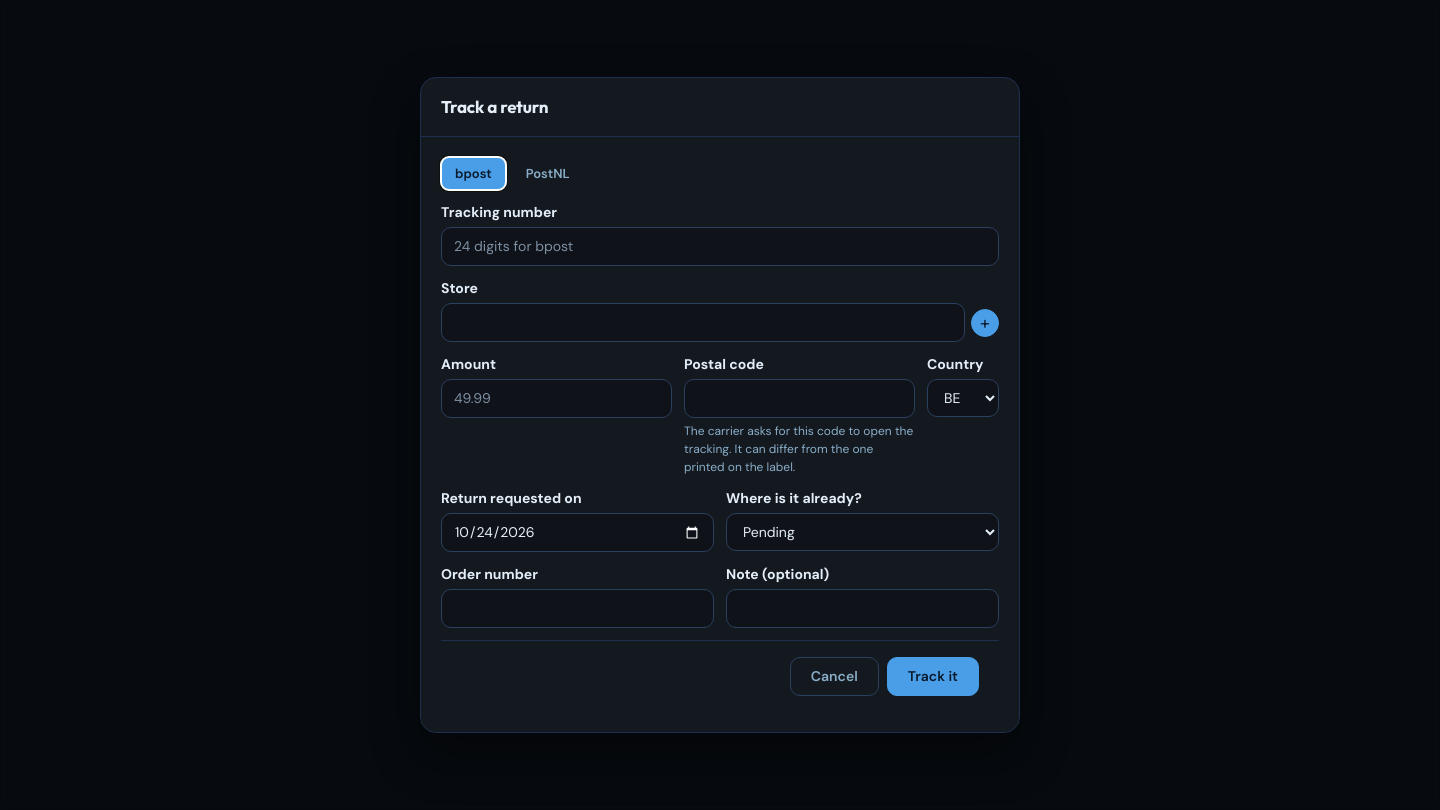
Test: what it refuses › names every missing field at once
Click the button "Track it" at (933, 676), box top-left (887, 657), bottom-right (979, 696)
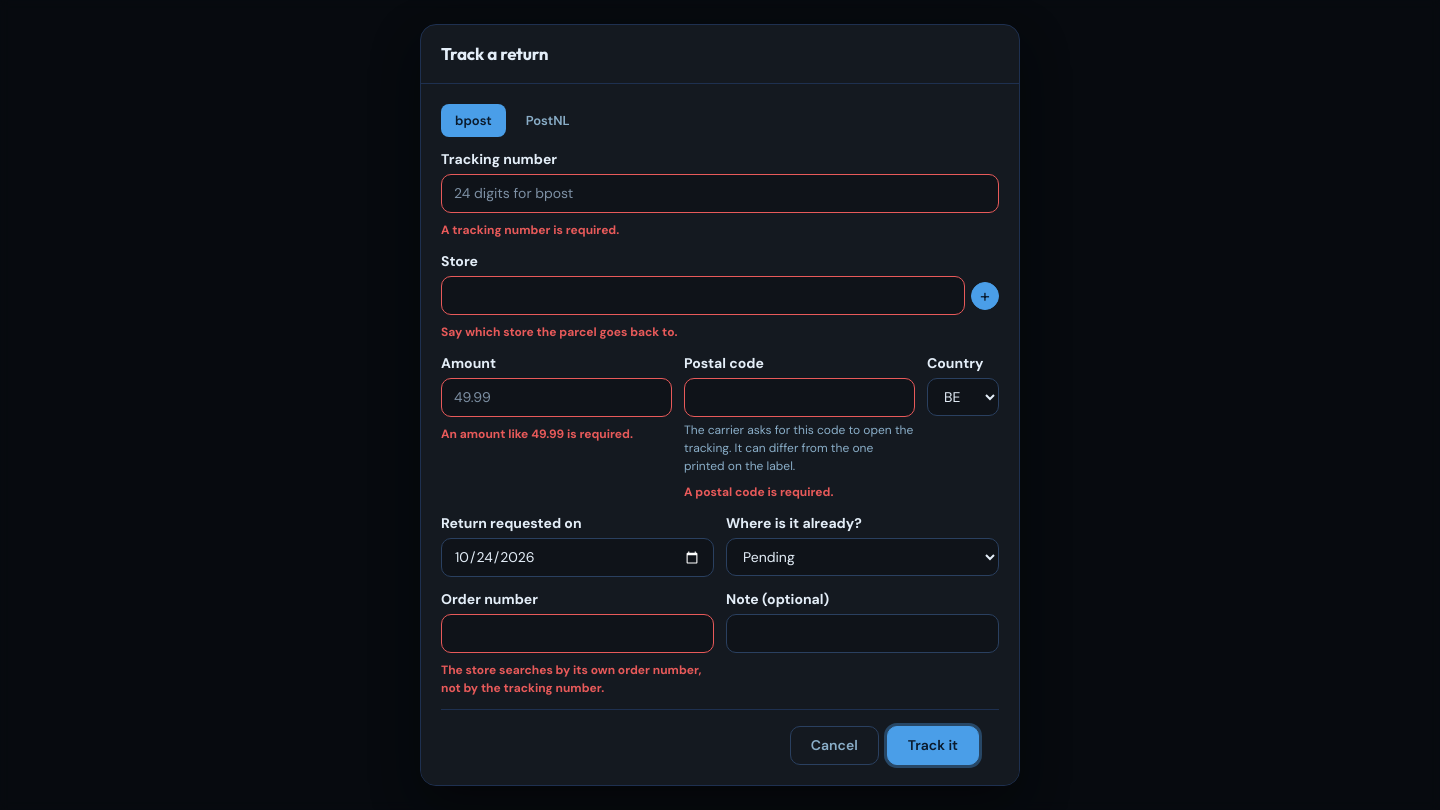
Now the text "A tracking number is required." is shown, box top-left (441, 222), bottom-right (619, 238)
Now the text "Say which store the parcel goes back to." is shown, box top-left (441, 324), bottom-right (678, 340)
Now the text "An amount like 49.99 is required." is shown, box top-left (441, 426), bottom-right (633, 442)
